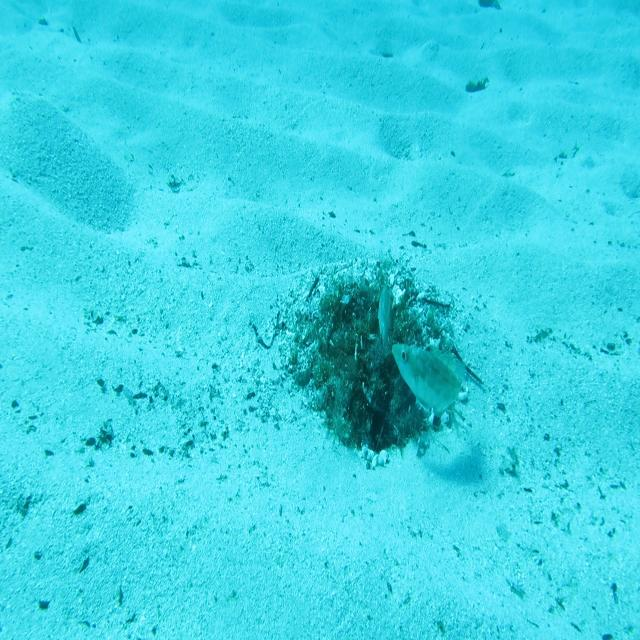GB: (390, 340, 468, 420)
core_nest: (344, 300, 394, 354)
female: (373, 282, 393, 362)
nest: (265, 248, 475, 489)
vegetation: (465, 79, 491, 94), (475, 0, 503, 12)
